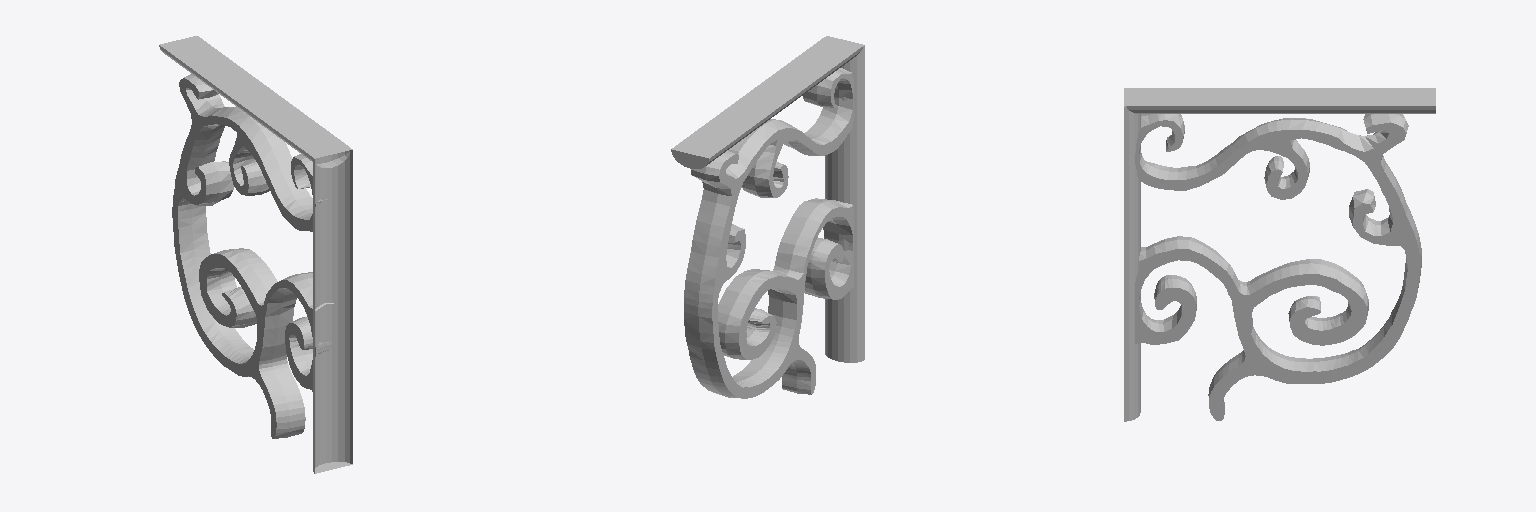
The model's file is cornerDecorationsLP.obj.
3 renders of one model, left to right at view 1: azimuth 30°, elevation 25°; view 2: azimuth 150°, elevation 25°; view 3: azimuth 270°, elevation 25°, orthographic.
Parts seen in each view (by area): view 1: cornerDecorationsLP:default1; view 2: cornerDecorationsLP:default1; view 3: cornerDecorationsLP:default1.
Part boxes in pixels (bbox=[...]): cornerDecorationsLP:default1: bbox=[159, 36, 352, 473]; cornerDecorationsLP:default1: bbox=[671, 36, 864, 398]; cornerDecorationsLP:default1: bbox=[1124, 88, 1435, 421].
Bounding box in the file's own units: 0.2521 × 2 × 1.77.